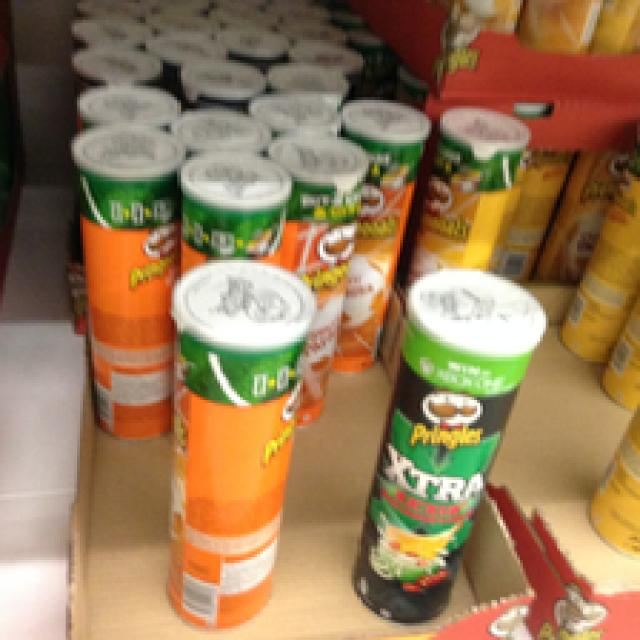groceries: (354, 263, 534, 634), (166, 254, 317, 629), (66, 123, 177, 440)
